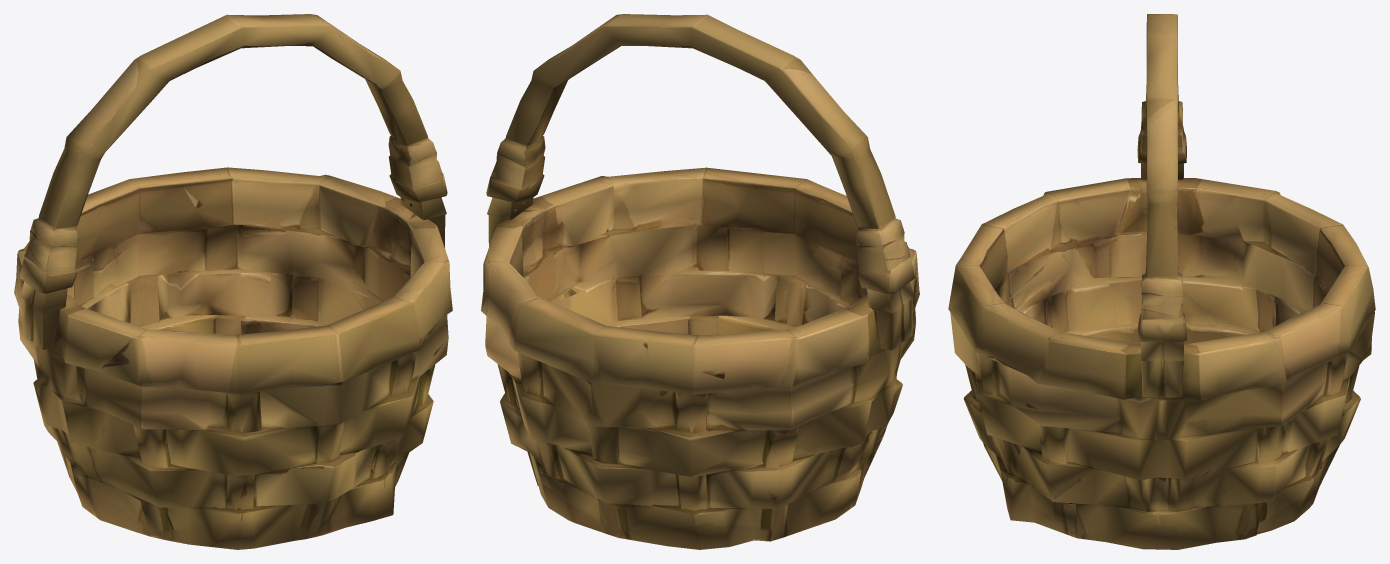
Rendered from Basket.fbx.
The picture shows the model from 3 angles, left to right: view 1: azimuth 30°, elevation 25°; view 2: azimuth 150°, elevation 25°; view 3: azimuth 270°, elevation 25°; orthographic projection. The views are drawn at different scales.
Parts seen in each view (by area): view 1: Mesh_0; view 2: Mesh_0; view 3: Mesh_0.
Part boxes in pixels (x1,y1,x2,y2): Mesh_0: (14, 14, 452, 549); Mesh_0: (481, 14, 919, 549); Mesh_0: (948, 14, 1375, 549).
Bounding box in the file's own units: 178 × 191 × 166.
1 material, 1 textured.
